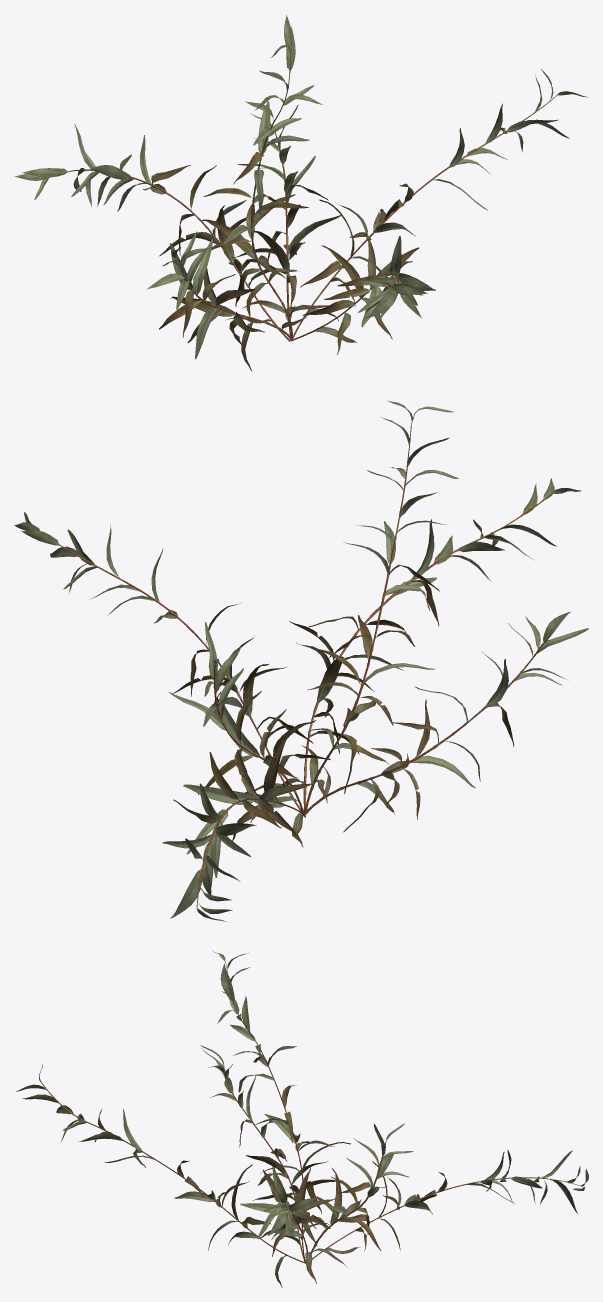
The model's file is shrub_02_c.gltf.
3 views of the same model, one above another, from view 1: azimuth 30°, elevation 25°; view 2: azimuth 150°, elevation 25°; view 3: azimuth 270°, elevation 25° (orthographic). The views are drawn at different scales.
Visible parts, largest first — view 1: shrub_02_c; view 2: shrub_02_c; view 3: shrub_02_c.
Boxes of the visible parts, bbox=[...] form: shrub_02_c: bbox=[14, 15, 588, 371]; shrub_02_c: bbox=[14, 400, 588, 921]; shrub_02_c: bbox=[16, 951, 588, 1287].
Size of the model in its own units: 1.77 by 1.31 by 2.29.
1 material, 1 textured.
